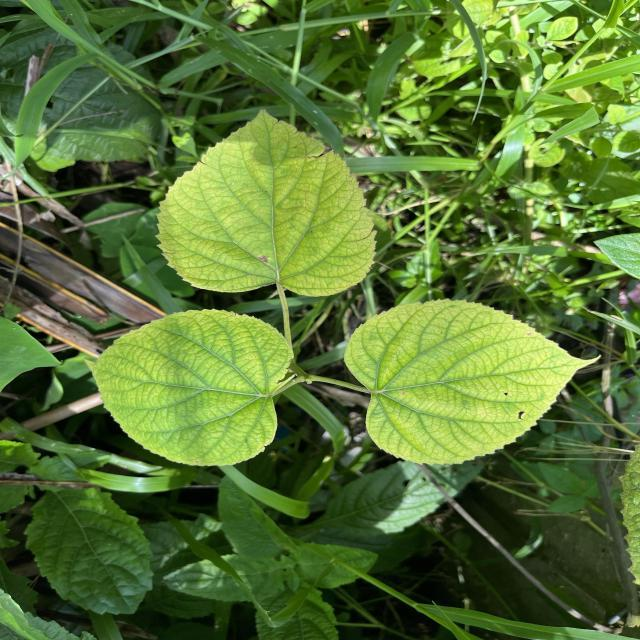Clerodendrum infortunatum: (342, 298, 604, 468), (154, 106, 377, 298), (82, 306, 295, 468)
